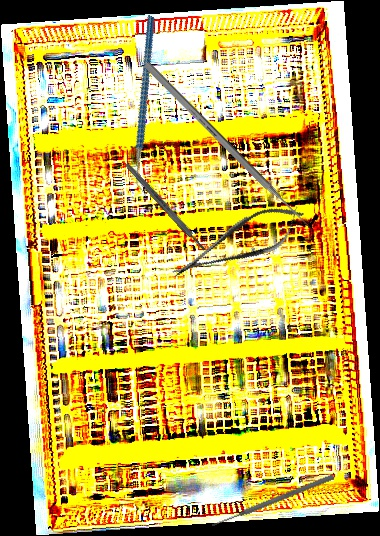Chopper: (80, 15, 215, 197)
Micro Scissor: (163, 194, 313, 292)
Pusher: (143, 61, 315, 233), (210, 472, 335, 530)
Scalpel Handle: (124, 161, 207, 253)
